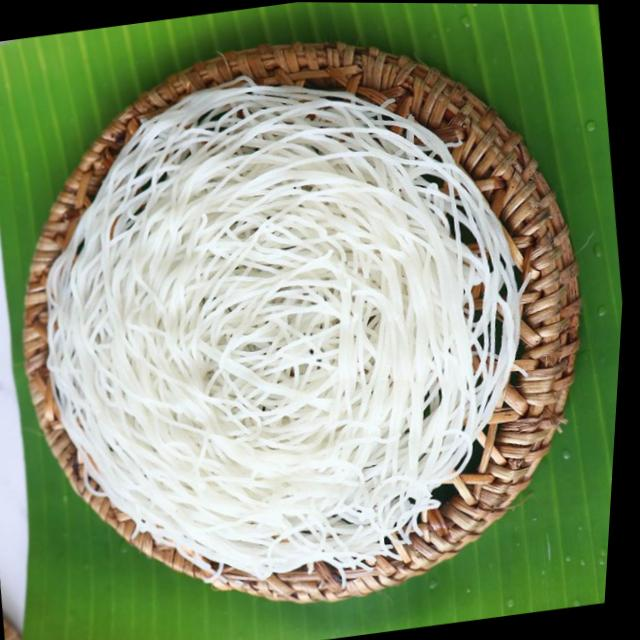IDIYAPPAM: (45, 85, 526, 576)
